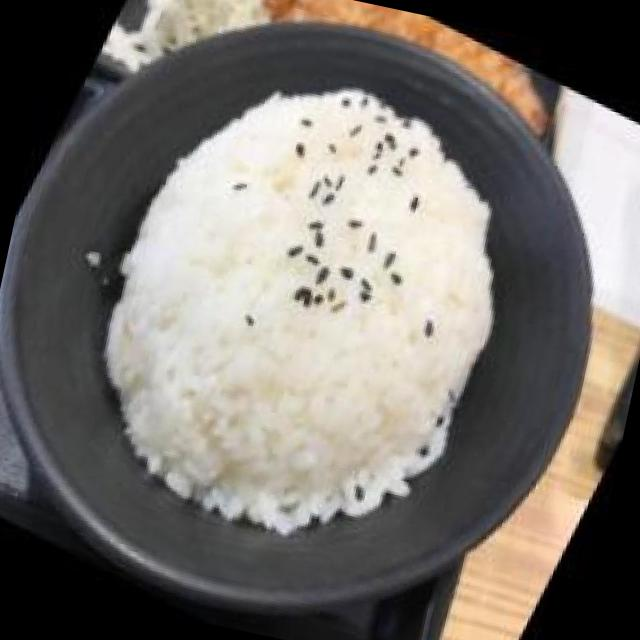rice: (4, 0, 599, 624)
